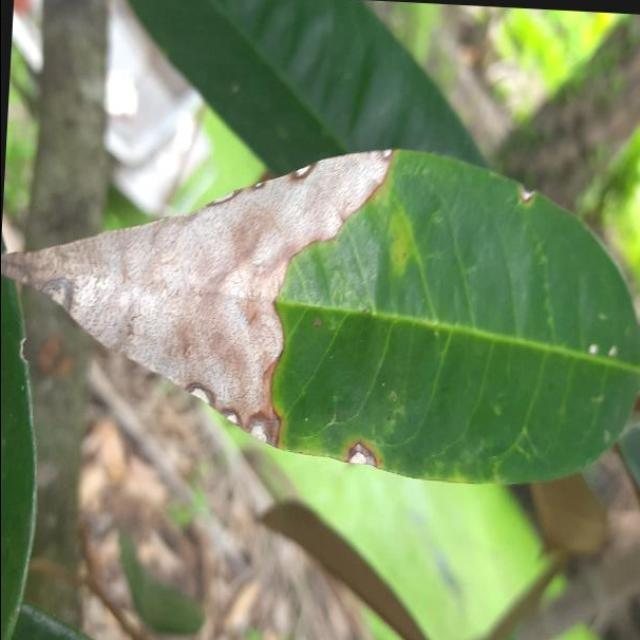Leaf Blight: (0, 117, 640, 505)
